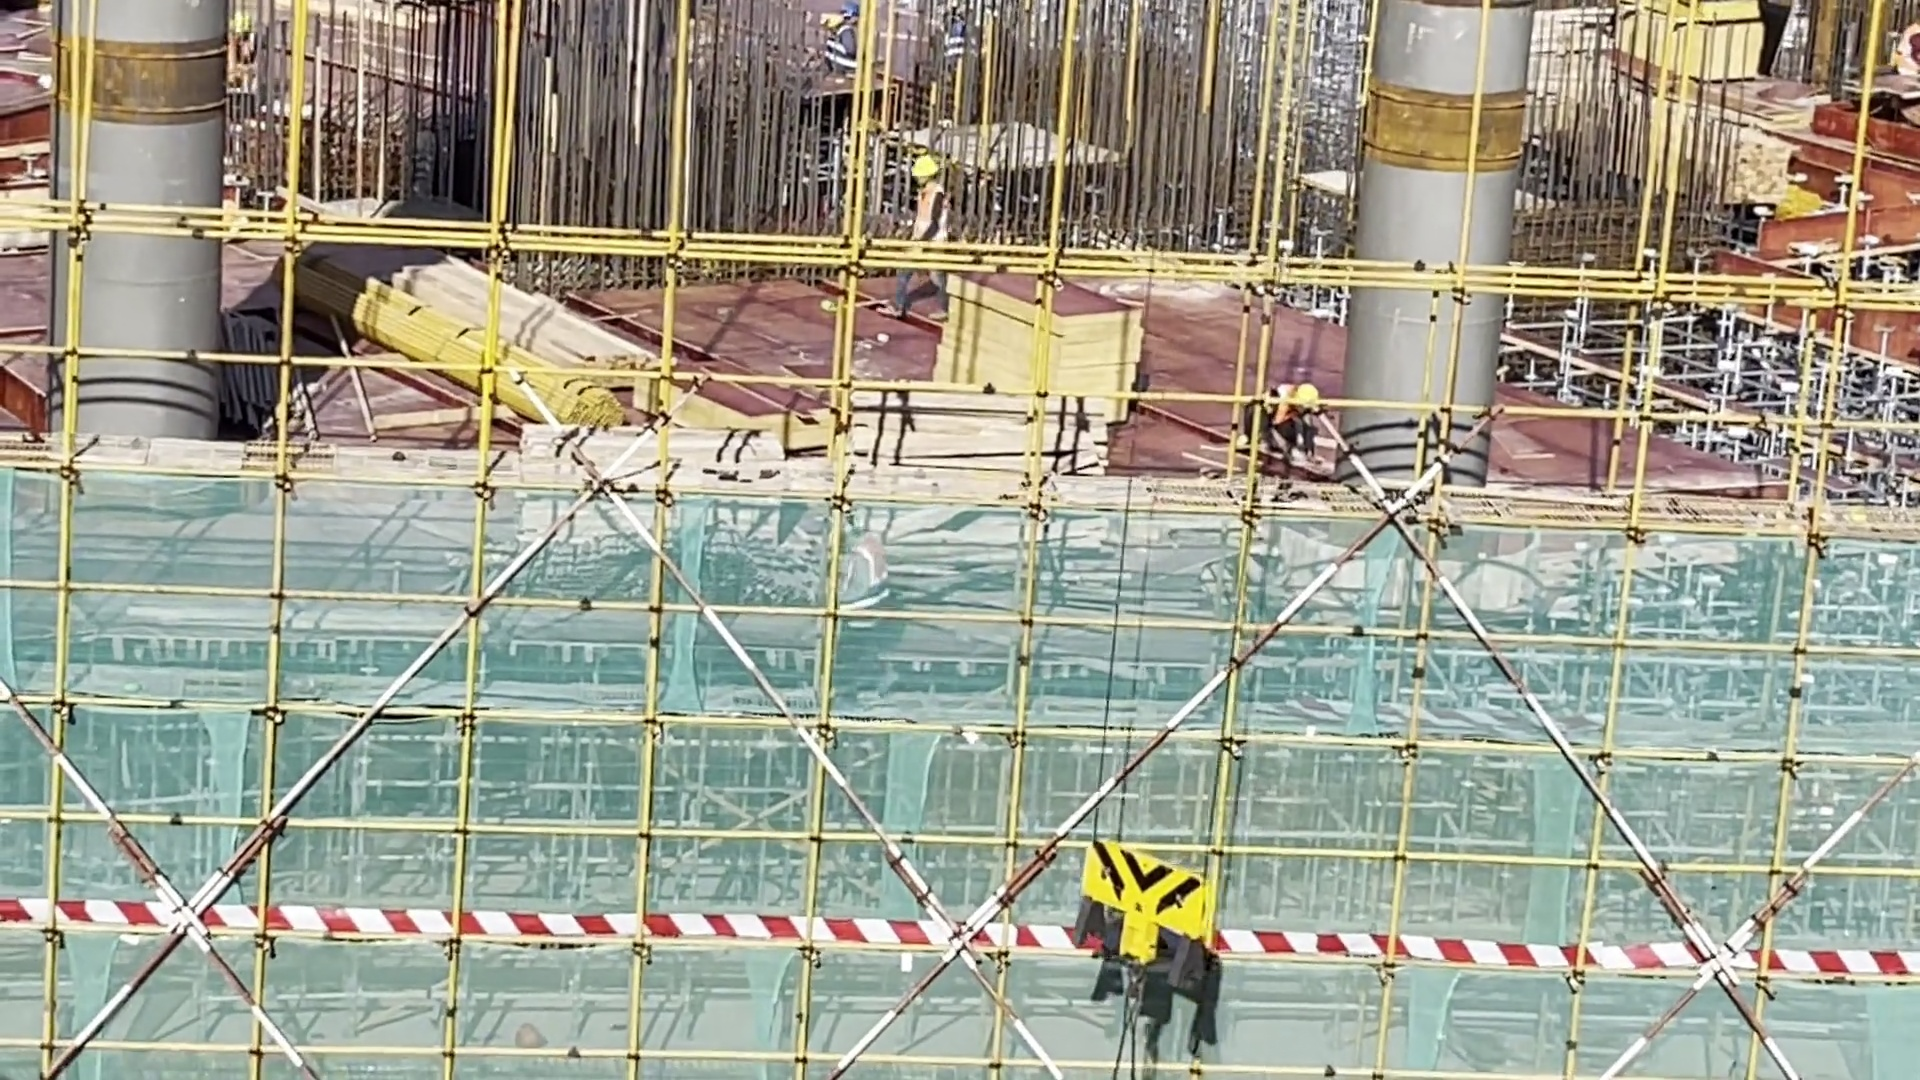board: (943, 283, 1144, 414)
helmet: (909, 155, 937, 177)
hook: (1088, 841, 1206, 969)
person: (882, 154, 958, 322), (1256, 377, 1324, 446)
wood: (320, 233, 659, 431), (1731, 127, 1798, 211)
